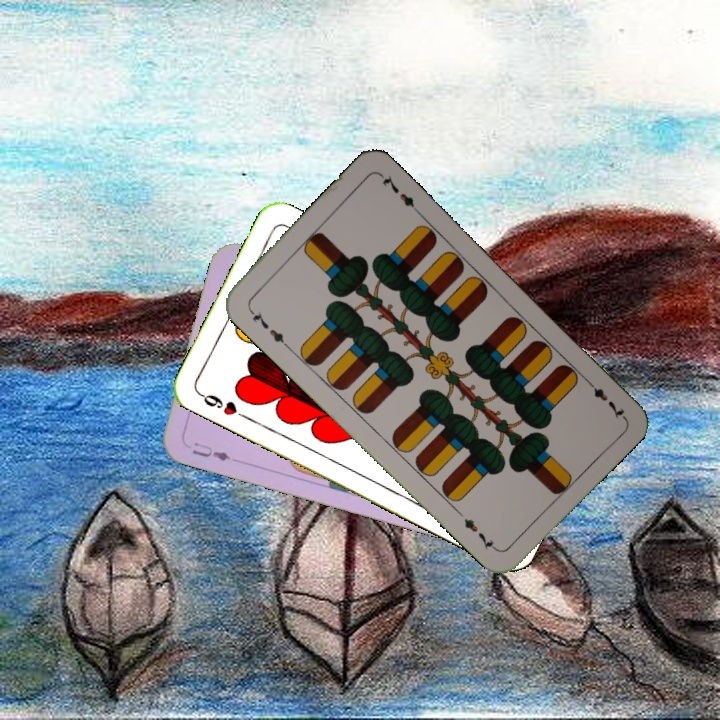E7: (581, 374, 627, 422), (244, 304, 291, 350)
EU: (188, 437, 233, 464)
H9: (195, 388, 250, 422)
